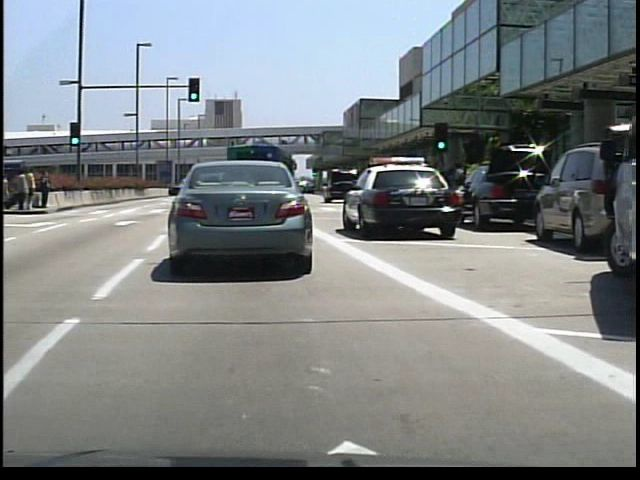person: (12, 169, 28, 213), (36, 167, 51, 210), (25, 165, 36, 212)
